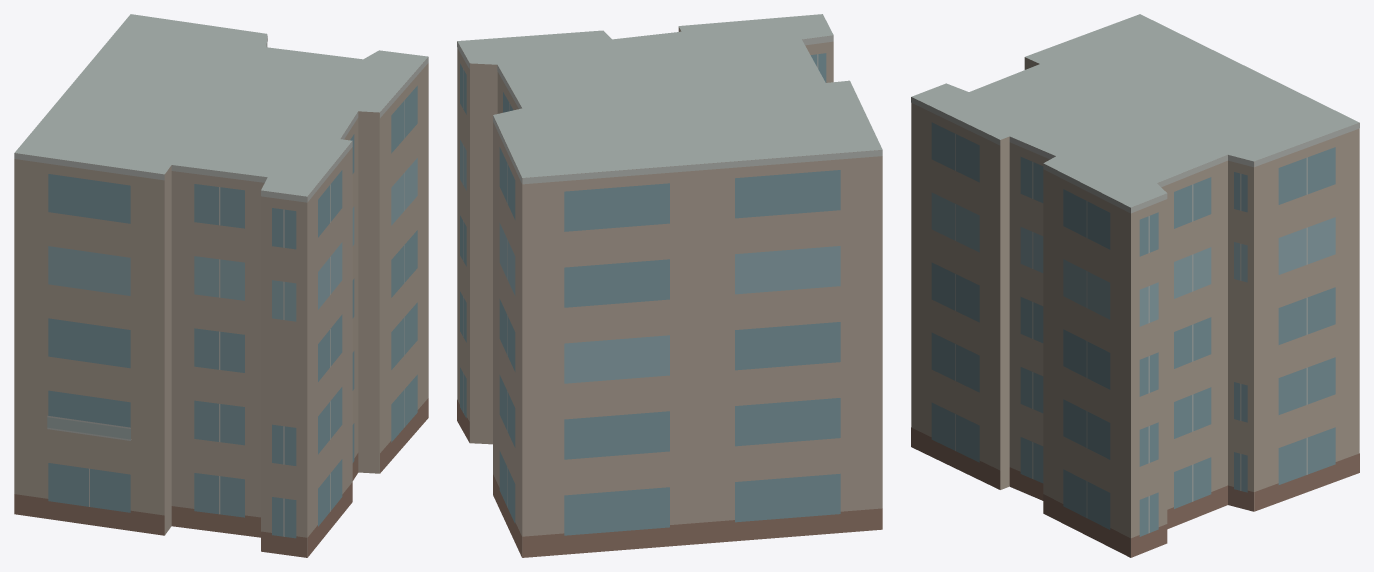
Rendered from survey-upis-32889216.glb.
3 views of the same model, side by side, from view 1: azimuth 30°, elevation 25°; view 2: azimuth 150°, elevation 25°; view 3: azimuth 270°, elevation 25° (orthographic). The views are drawn at different scales.
Visible parts, largest first — view 1: survey-upis-32889216.tmp; view 2: survey-upis-32889216.tmp; view 3: survey-upis-32889216.tmp.
Boxes of the visible parts, x1,y1,x2,y2 form: survey-upis-32889216.tmp: (14, 14, 428, 557); survey-upis-32889216.tmp: (457, 14, 882, 557); survey-upis-32889216.tmp: (911, 14, 1359, 557).
Bounding box in the file's own units: 17.44 × 14.7 × 17.07.
